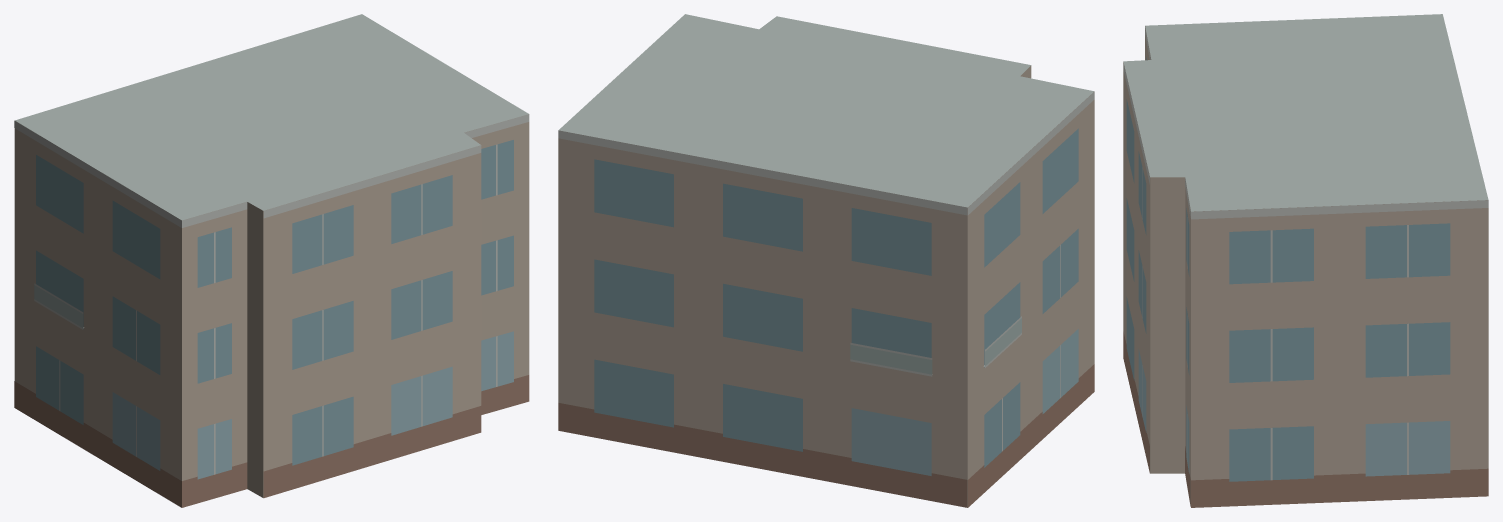
The model's file is survey-upis-32641272.glb.
The picture shows the model from 3 angles, left to right: view 1: azimuth 30°, elevation 25°; view 2: azimuth 150°, elevation 25°; view 3: azimuth 270°, elevation 25°; orthographic projection. The views are drawn at different scales.
Visible parts, largest first — view 1: survey-upis-32641272.tmp; view 2: survey-upis-32641272.tmp; view 3: survey-upis-32641272.tmp.
Part boxes in pixels (x1,y1,x2,y2): survey-upis-32641272.tmp: (14,14,529,507); survey-upis-32641272.tmp: (558,14,1094,507); survey-upis-32641272.tmp: (1123,14,1488,507).
Bounding box in the file's own units: 13.09 × 9.15 × 10.23.
